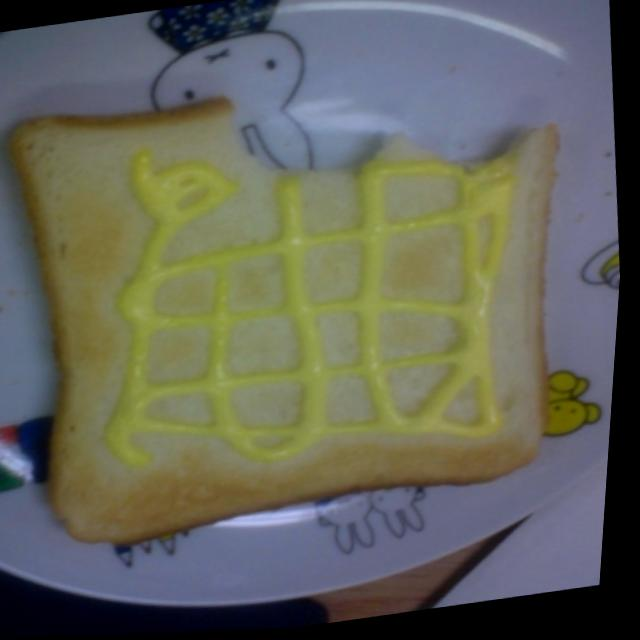面包点心: (0, 35, 604, 555)
